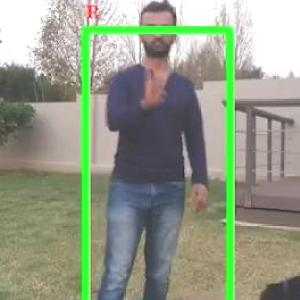takeoff-hand: (139, 63, 172, 109)
